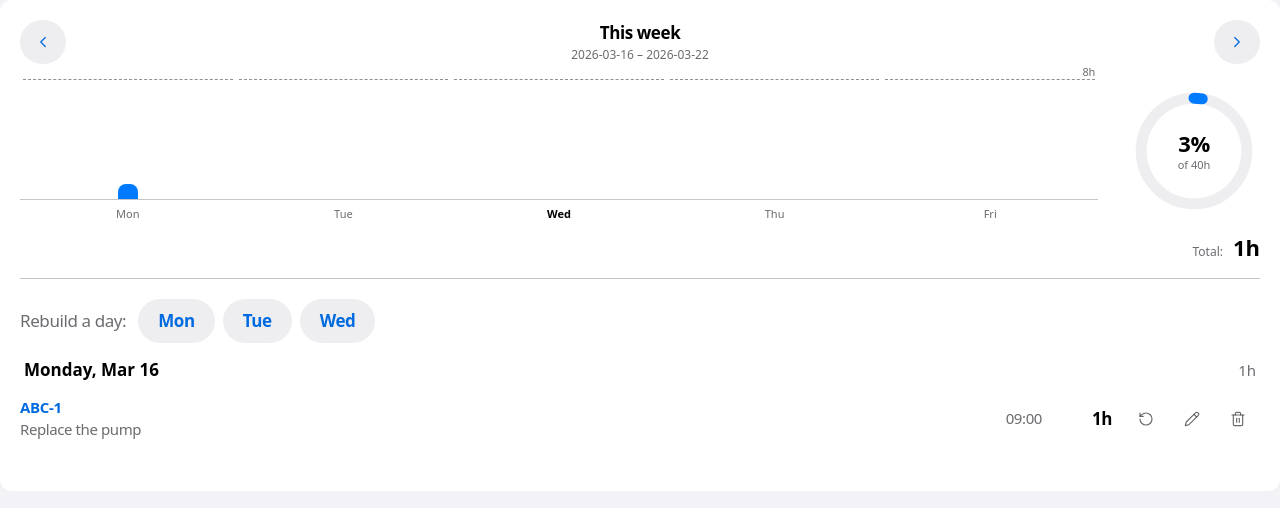
deleting a worklog › backs out on cancel, deleting nothing
Click the button titled "Delete": x=1238, y=419 top-left (1216, 397), bottom-right (1260, 441)
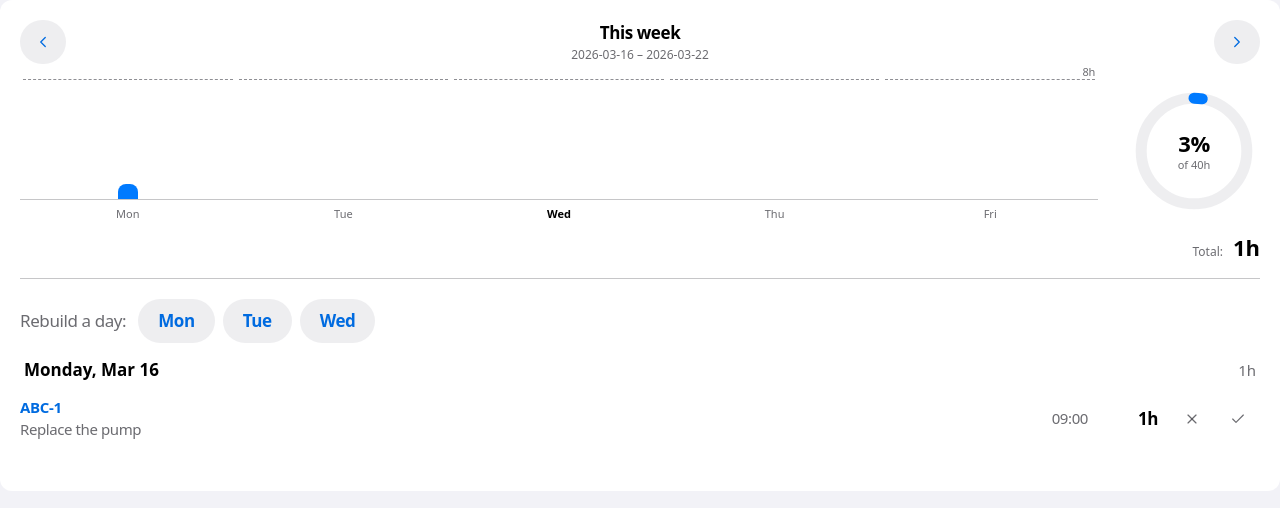
Click the button titled "Cancel": x=1192, y=419 top-left (1170, 397), bottom-right (1214, 441)
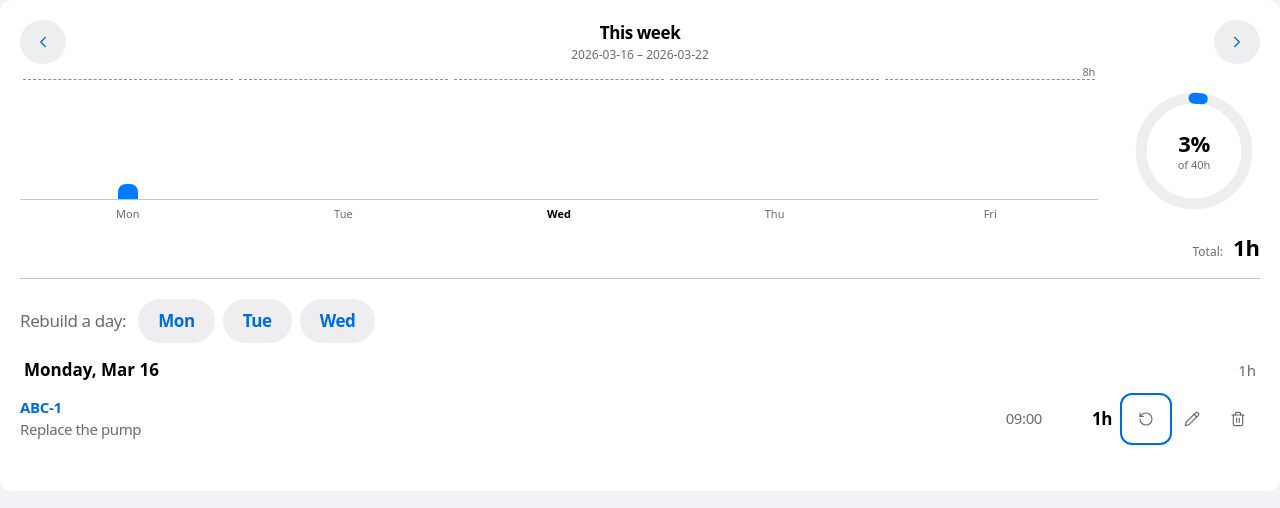
Expected: the button titled "Delete" is shown, top-left (1216, 397), bottom-right (1260, 441)
